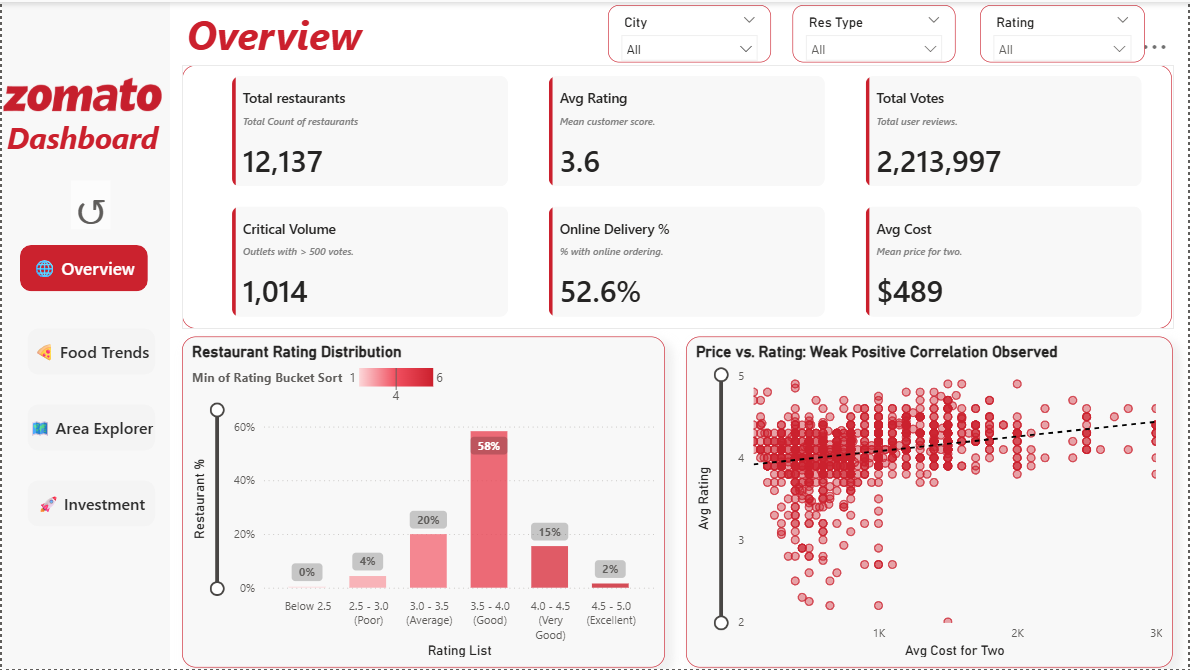

This screenshot's page, from the dashboard's own definition file:
{"tool":"powerbi","page":{"name":"🌐 Overview","canvas":[1280,720],"ordinal":0},"visuals":[{"type":"shape","box":[0,0,181.4,720],"z":0,"group":"g1"},{"type":"cardVisual","fields":{"Rows":["KPI.KPI_Name"],"Data":["_Measures.KPI Value"]},"box":[195.1,67.3,1068.8,284.9],"z":0},{"type":"textbox","box":[195,0,298.7,75.2],"z":1000},{"type":"image","box":[2,63,170.7,73.1],"z":1000,"group":"g1"},{"type":"pageNavigator","box":[18.9,262.7,155,315.6],"z":2000,"group":"g1"},{"type":"clusteredColumnChart","title":"Restaurant Rating Distribution","fields":{"Y":["_Measures.Restaurant %"],"Category":["zomato_cleaned.Rating Bucket"]},"box":[194.6,360.9,521.6,357.2],"z":2000},{"type":"textbox","box":[0,117.8,314.9,75.2],"z":2500,"group":"g1"},{"type":"actionButton","box":[74.2,193,42.9,52.8],"z":3000,"group":"g1"},{"type":"scatterChart","title":"Price vs. Rating: Weak Positive Correlation Observed","fields":{"Category":["zomato_cleaned.name"],"X":["_Measures.Avg Cost for Two"],"Y":["_Measures.Avg Rating"]},"box":[738.9,360.9,525.4,357.2],"z":3000},{"type":"group","id":"g1","title":"sideBar","box":[0,0,314.9,720],"z":4000},{"type":"slicer","title":"City","fields":{"Values":["zomato_cleaned.listed_incity"]},"box":[654.4,3.5,176.1,62.2],"z":5000},{"type":"slicer","title":"City","fields":{"Values":["zomato_cleaned.rest_type"]},"box":[853,3.5,176.1,62.2],"z":6000},{"type":"slicer","title":"City","fields":{"Values":["zomato_cleaned.Rating Bucket"]},"box":[1055,3.5,177.8,62.2],"z":7000}]}

Visuals, with their boxes in screenshot pixels (x1, y1, x2, y2), scaled from the page's 1280x720 canvas onto the 1190x670 screenshot:
shape: (x1=0, y1=0, x2=169, y2=669)
cardVisual - KPI.KPI_Name x _Measures.KPI Value: (x1=181, y1=63, x2=1175, y2=328)
textbox: (x1=181, y1=0, x2=459, y2=70)
image: (x1=2, y1=59, x2=161, y2=127)
pageNavigator: (x1=18, y1=244, x2=162, y2=538)
"Restaurant Rating Distribution" clusteredColumnChart: (x1=181, y1=336, x2=666, y2=668)
textbox: (x1=0, y1=110, x2=293, y2=180)
actionButton: (x1=69, y1=180, x2=109, y2=229)
"Price vs. Rating: Weak Positive Correlation Observed" scatterChart: (x1=687, y1=336, x2=1175, y2=668)
"sideBar" group: (x1=0, y1=0, x2=293, y2=669)
"City" slicer: (x1=608, y1=3, x2=772, y2=61)
"City" slicer: (x1=793, y1=3, x2=957, y2=61)
"City" slicer: (x1=981, y1=3, x2=1146, y2=61)
